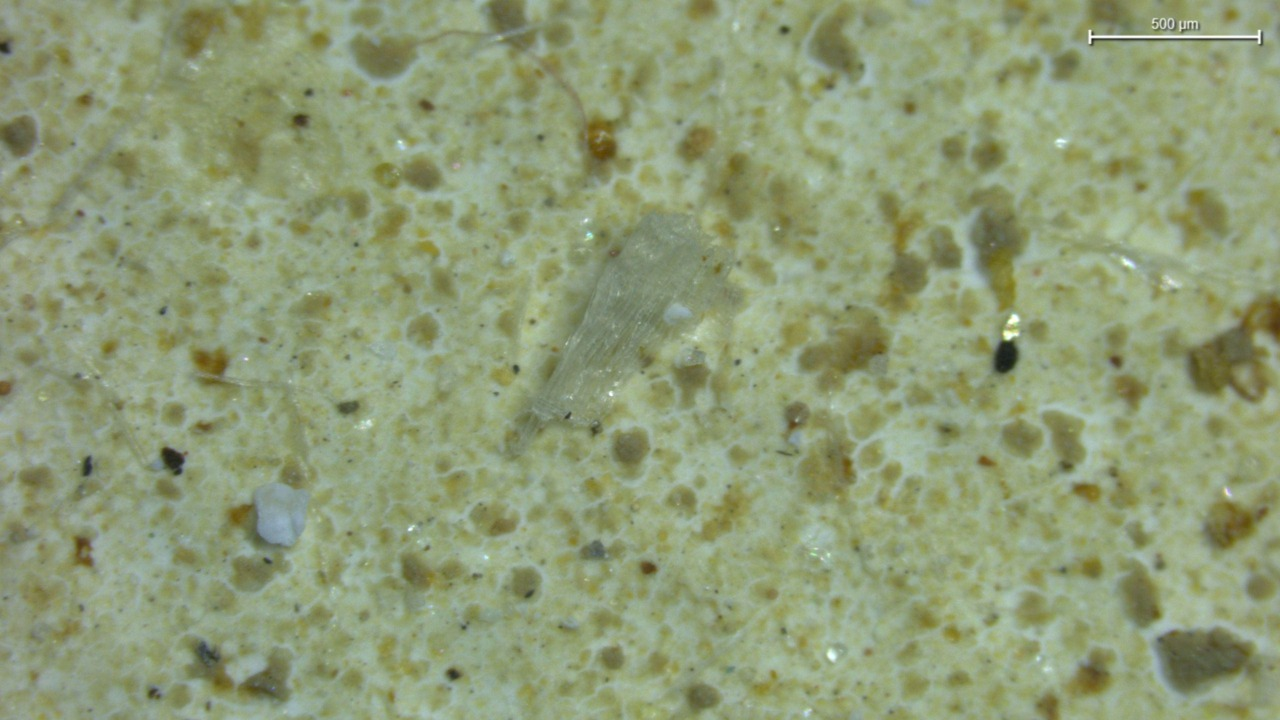microplastic_fragment: (512, 212, 740, 452), (254, 482, 309, 547)
